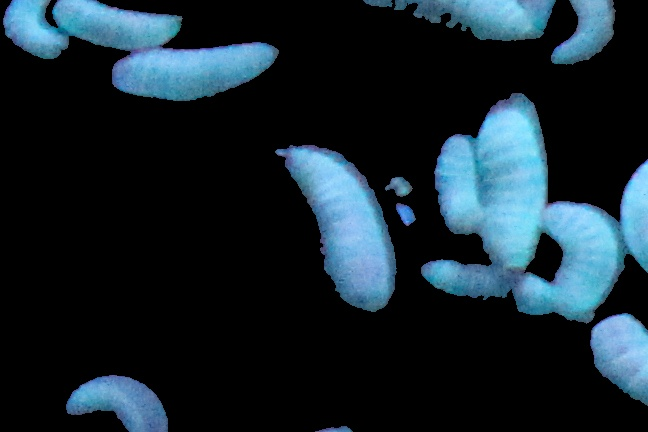larvae: (280, 151, 397, 311), (473, 101, 544, 271), (539, 201, 628, 322), (110, 44, 278, 103), (349, 1, 536, 40), (420, 258, 552, 313), (49, 1, 188, 52), (584, 313, 647, 409), (64, 376, 170, 432), (547, 1, 617, 78), (433, 134, 483, 232), (4, 1, 78, 62), (618, 157, 648, 278)
